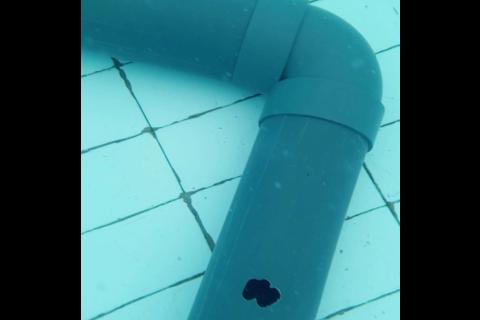kebocoran: (239, 277, 281, 308)
